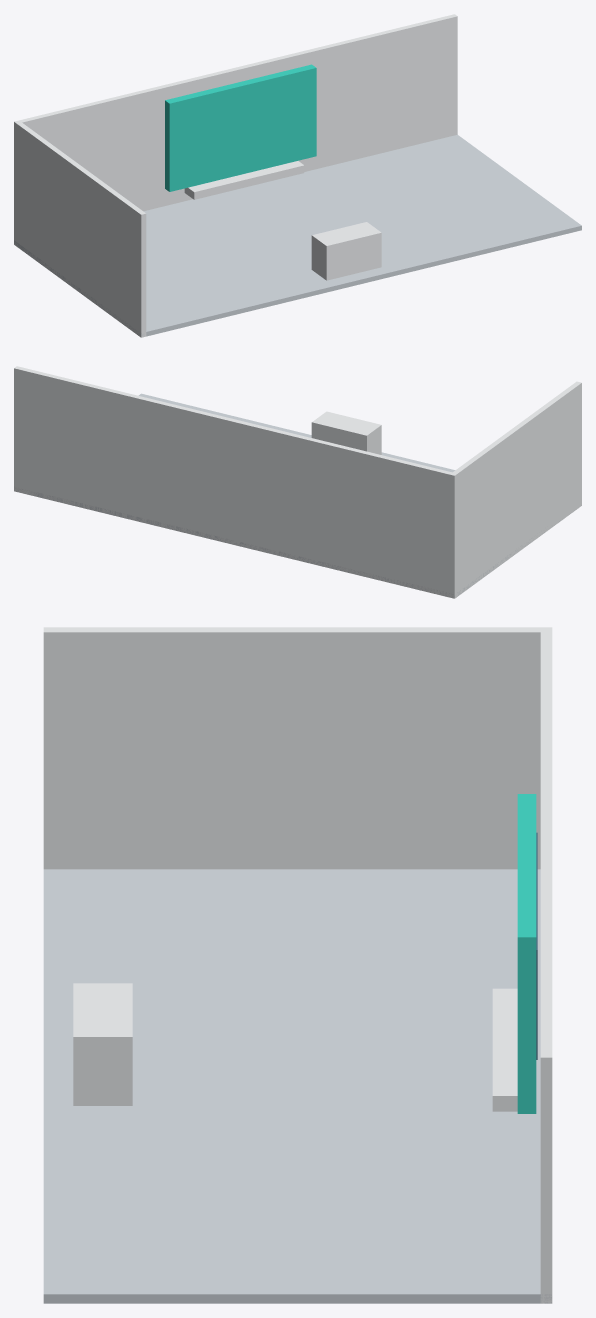
The picture shows the model from 3 angles, top to bottom: view 1: azimuth 30°, elevation 25°; view 2: azimuth 150°, elevation 25°; view 3: azimuth 270°, elevation 25°; orthographic projection. The views are drawn at different scales.
Parts seen in each view (by area): view 1: Exhibition Booth Concept; view 2: Exhibition Booth Concept; view 3: Exhibition Booth Concept.
Part boxes in pixels (left/top/right/bottom): Exhibition Booth Concept: left=14, top=14, right=581, bottom=337; Exhibition Booth Concept: left=14, top=366, right=581, bottom=598; Exhibition Booth Concept: left=43, top=627, right=552, bottom=1303.
Bounding box in the file's own units: 12 × 3.2 × 6.
